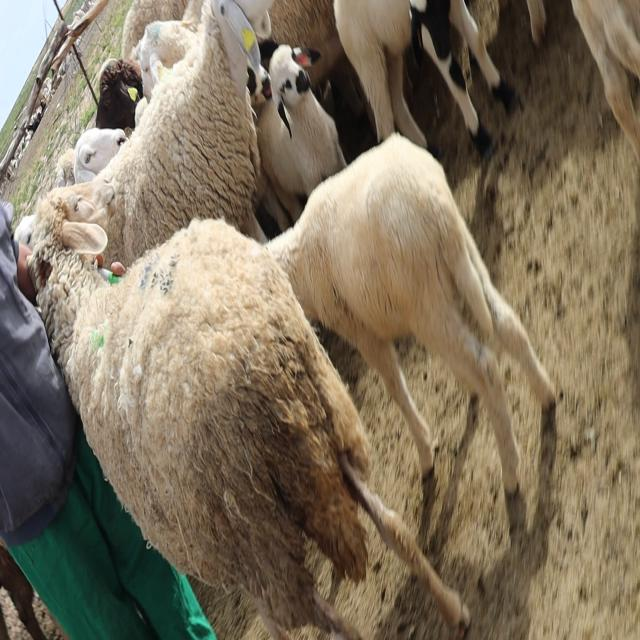Score_3: (28, 184, 469, 639)
